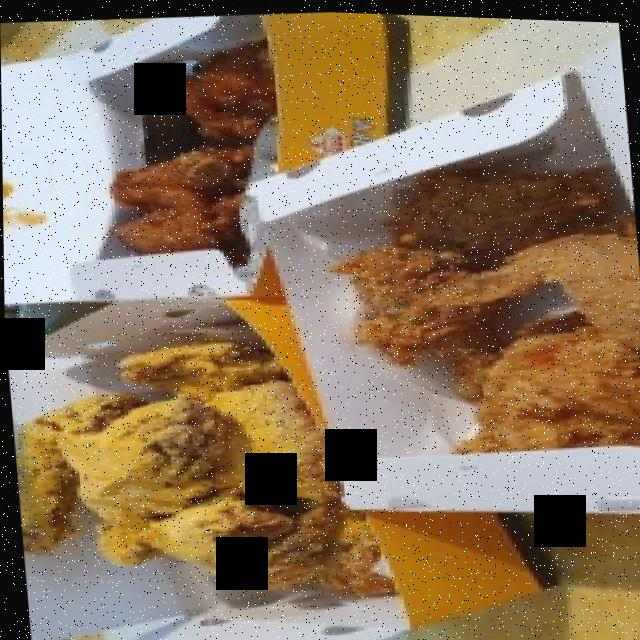Frango: (327, 151, 640, 470), (65, 33, 286, 250)
